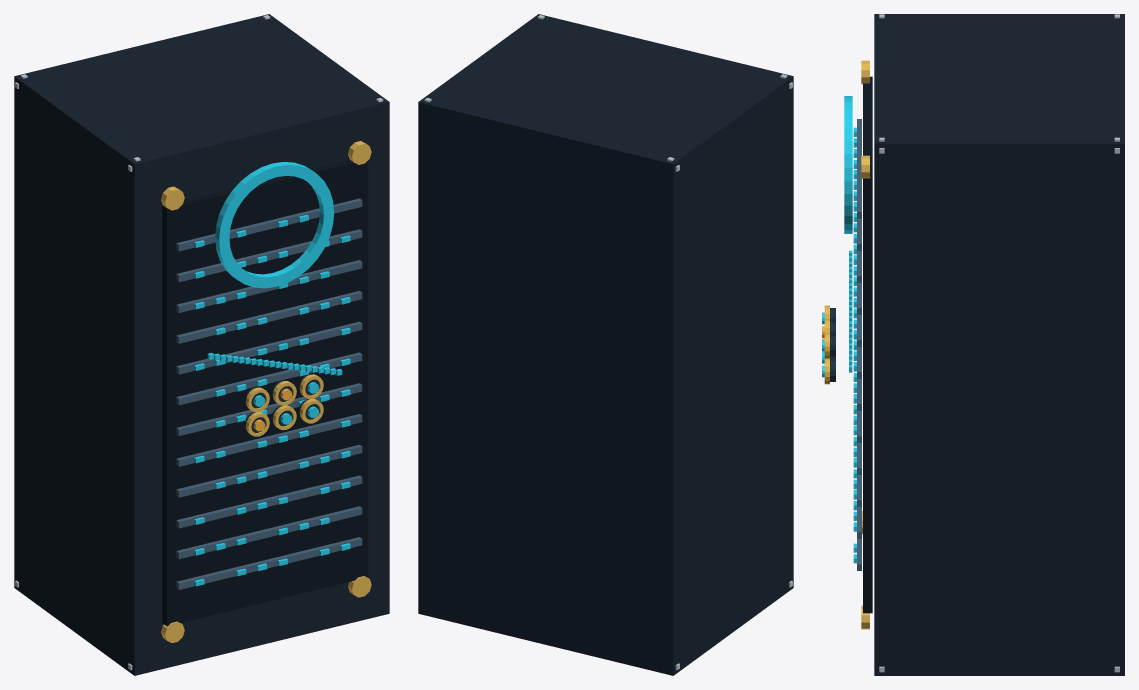
The model's file is 29_L81_RedundantComputeCoreA.fbx.
The picture shows the model from 3 angles, left to right: view 1: azimuth 30°, elevation 25°; view 2: azimuth 150°, elevation 25°; view 3: azimuth 270°, elevation 25°; orthographic projection. The views are drawn at different scales.
Parts seen in each view (by area): view 1: RedundantComputeCoreA; view 2: RedundantComputeCoreA; view 3: RedundantComputeCoreA.
Boxes of the visible parts, x1,y1,x2,y2 form: RedundantComputeCoreA: [14, 14, 389, 675]; RedundantComputeCoreA: [418, 14, 793, 675]; RedundantComputeCoreA: [822, 14, 1124, 675].
Size of the model in its own units: 144 by 274 by 140.
